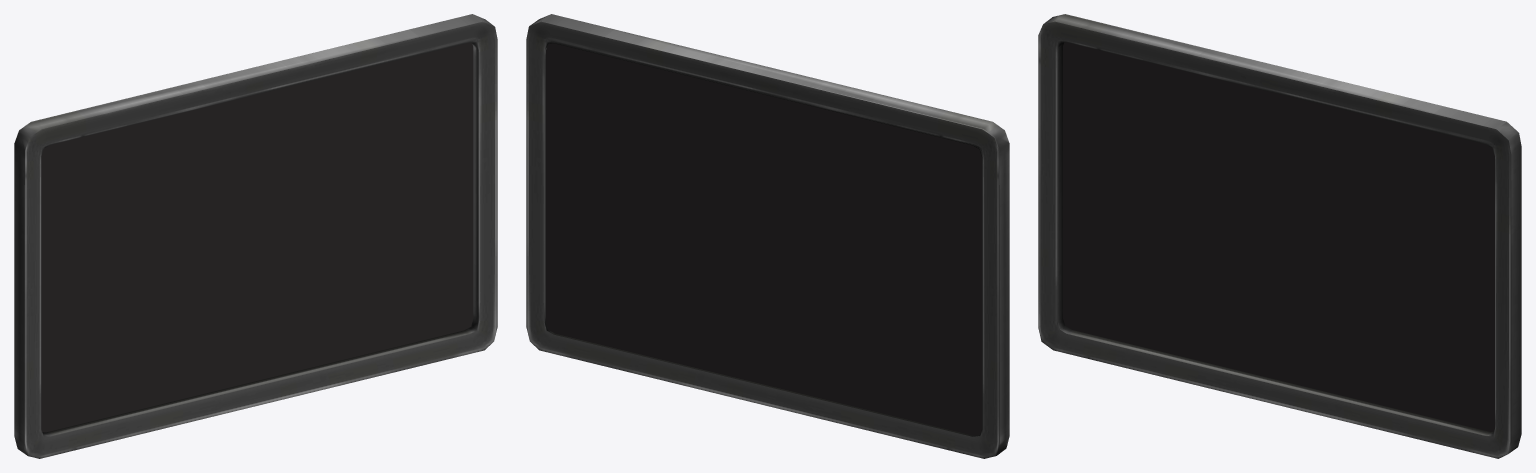
File: workstation_display.glb
3 views of the same model, side by side, from view 1: azimuth 30°, elevation 25°; view 2: azimuth 150°, elevation 25°; view 3: azimuth 330°, elevation 25° (orthographic).
Parts seen in each view (by area): view 1: obj_queue; view 2: obj_queue; view 3: obj_queue.
Boxes of the visible parts, x1,y1,x2,y2 form: obj_queue: (14, 14, 497, 458); obj_queue: (526, 14, 1009, 458); obj_queue: (1038, 14, 1521, 458).
Size of what is drawn, in the model's own units: 0.9166 by 0.6094 by 0.0348.
Materials: 1 (1 with a texture image).
